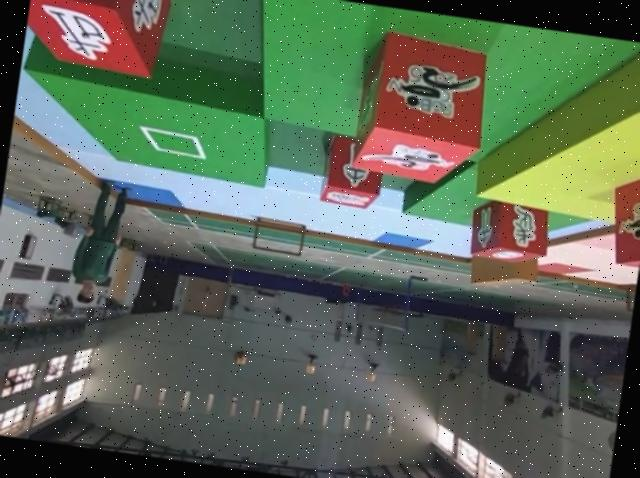R1: (346, 27, 497, 194), (602, 167, 640, 270)
R2 Fake: (465, 195, 556, 273)
R2 Real: (21, 0, 179, 86)
